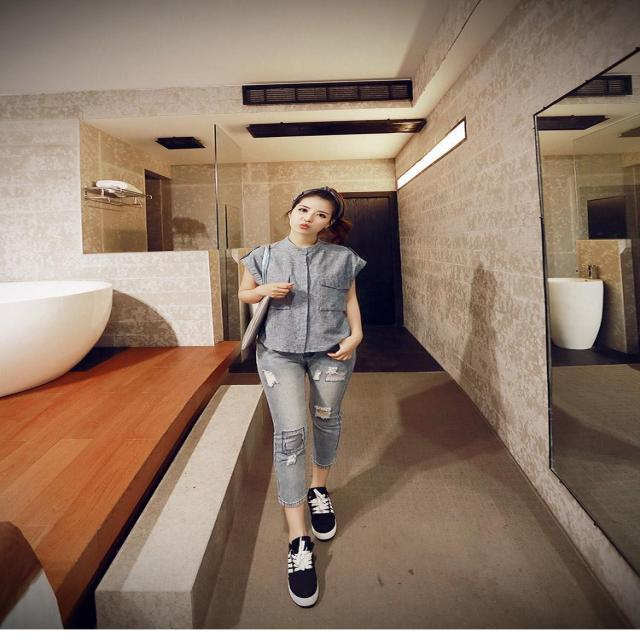short-sleeve-top: (222, 238, 422, 361)
trousers: (218, 384, 444, 516)
